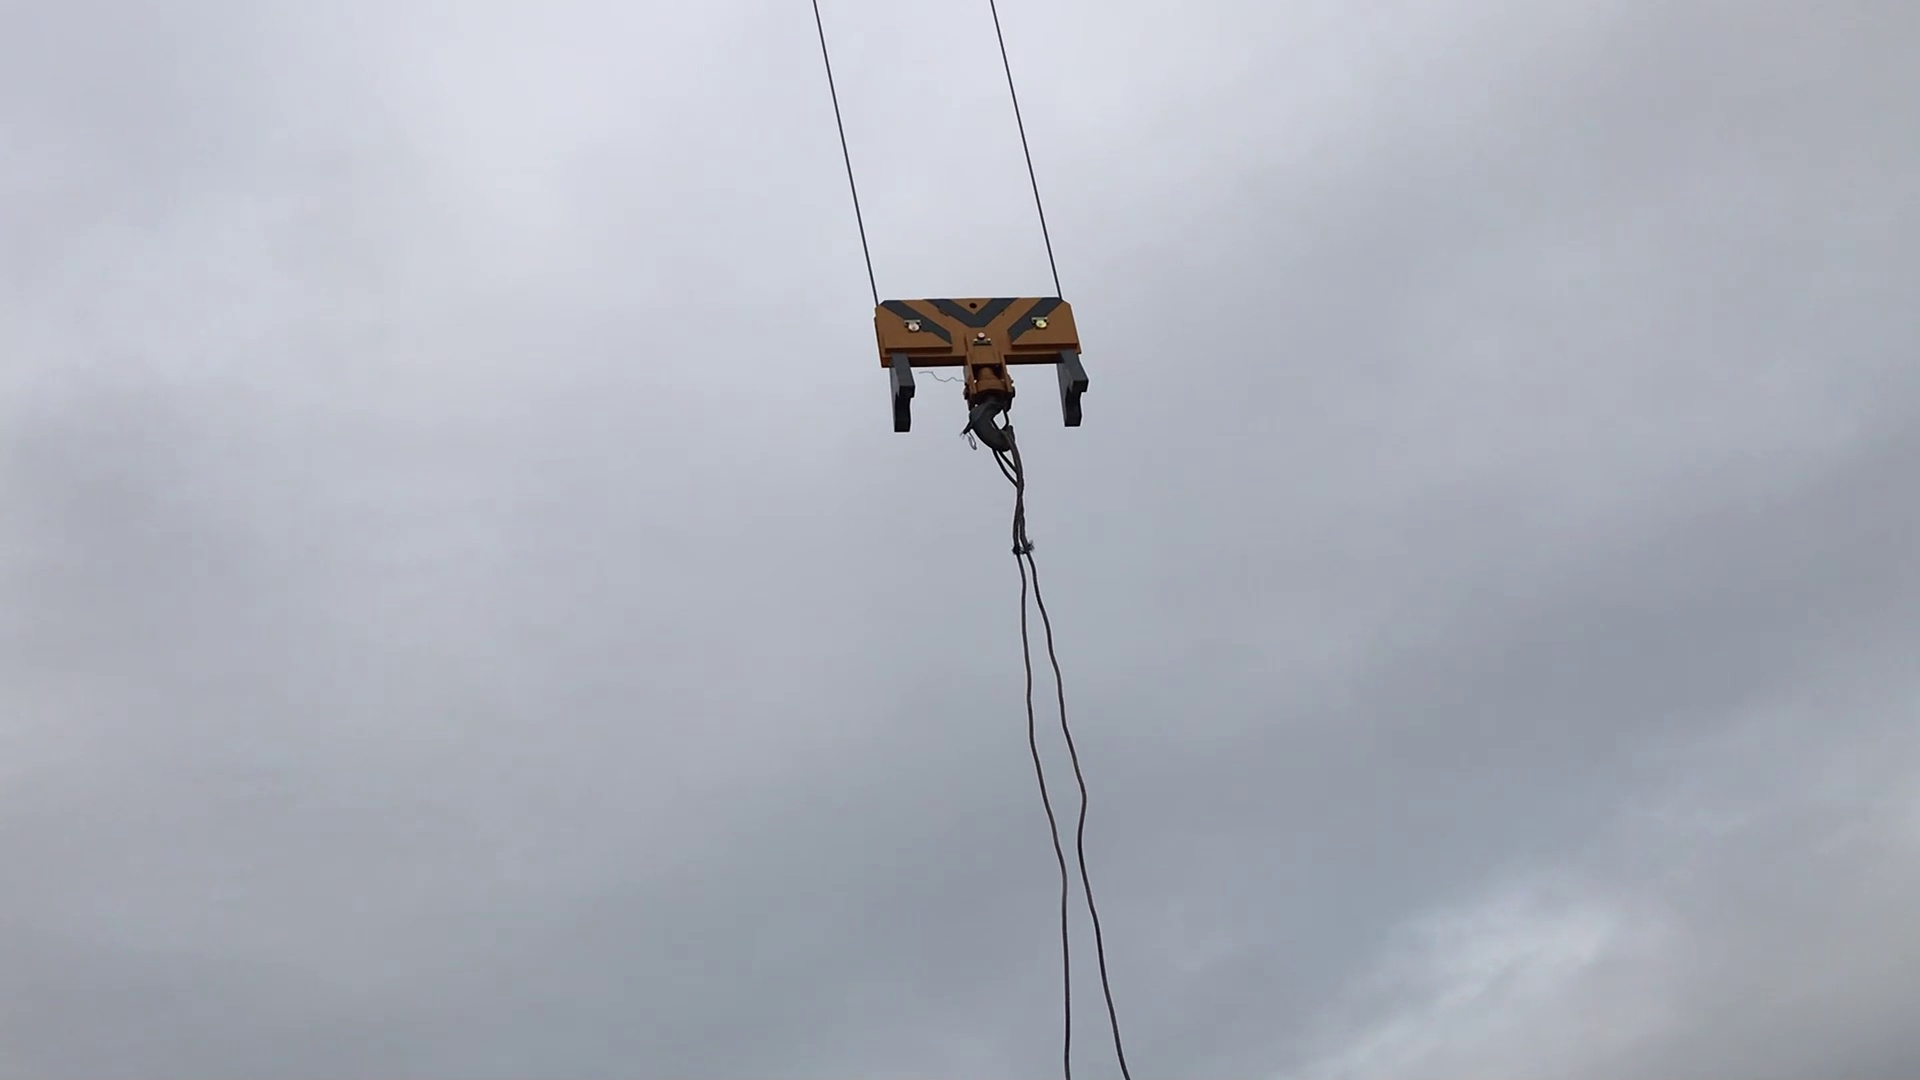hook: (861, 281, 1121, 484)
